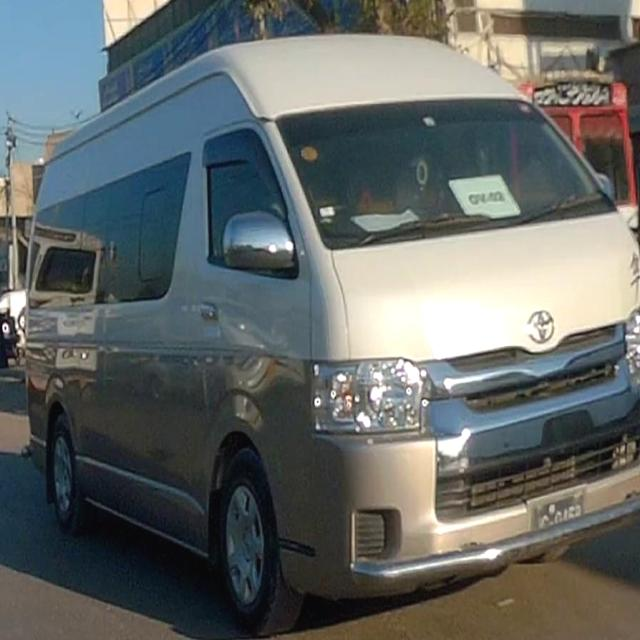Van: (72, 100, 528, 494)
